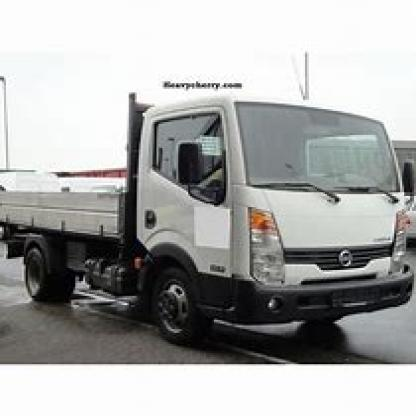dump_truck: (6, 80, 414, 352)
